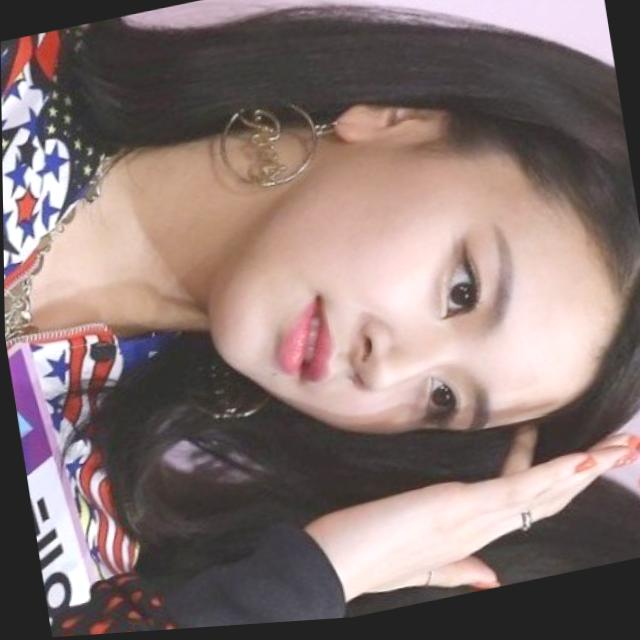face: (320, 28, 638, 323)
